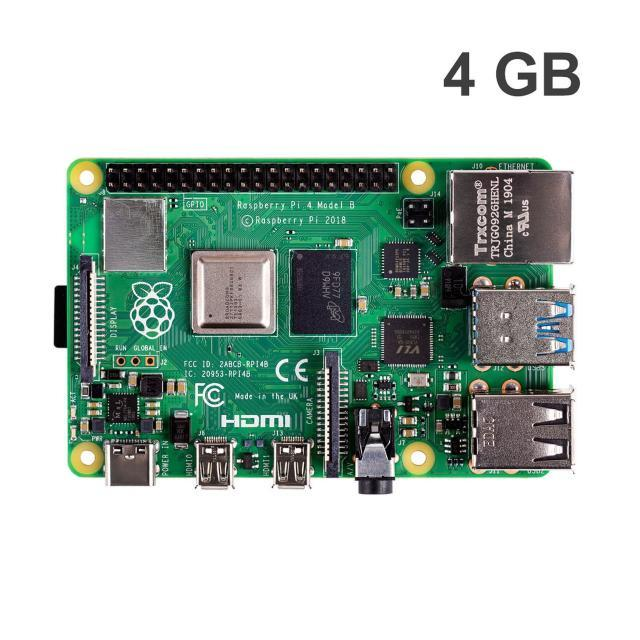Raspberry-Pi-4-B: (67, 160, 574, 494)
